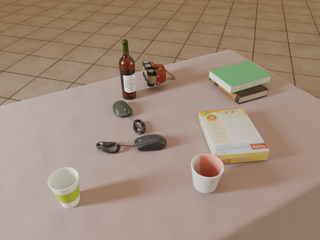book: (209, 61, 271, 94), (209, 78, 268, 104)
bottle: (119, 39, 136, 100)
box: (199, 108, 270, 164)
cup: (191, 153, 224, 193), (48, 168, 80, 208)
mouse: (132, 134, 166, 151), (113, 101, 133, 118)
toy_car: (143, 60, 175, 86)
